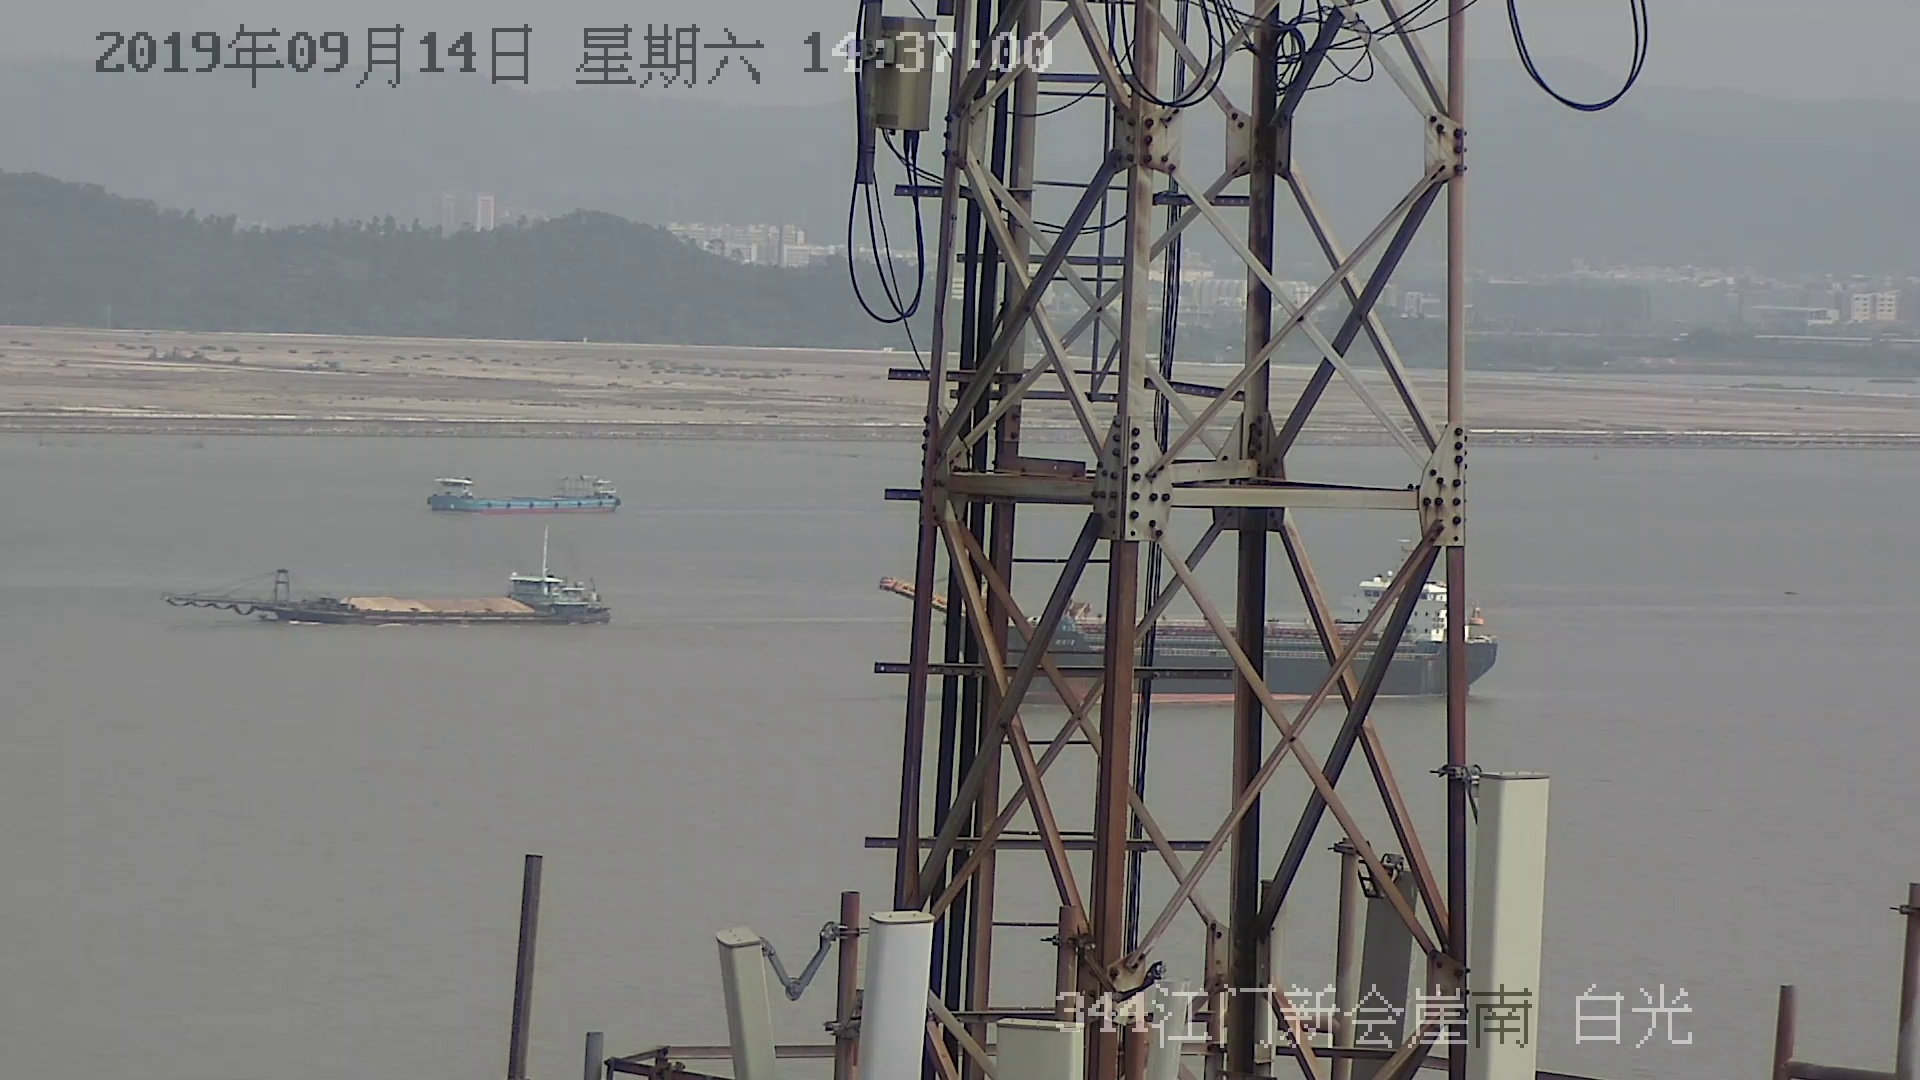ship: (164, 526, 617, 636), (427, 477, 632, 518)
